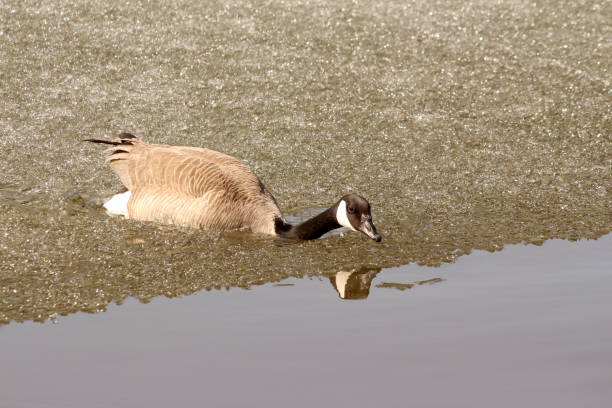goose: (81, 130, 383, 246)
